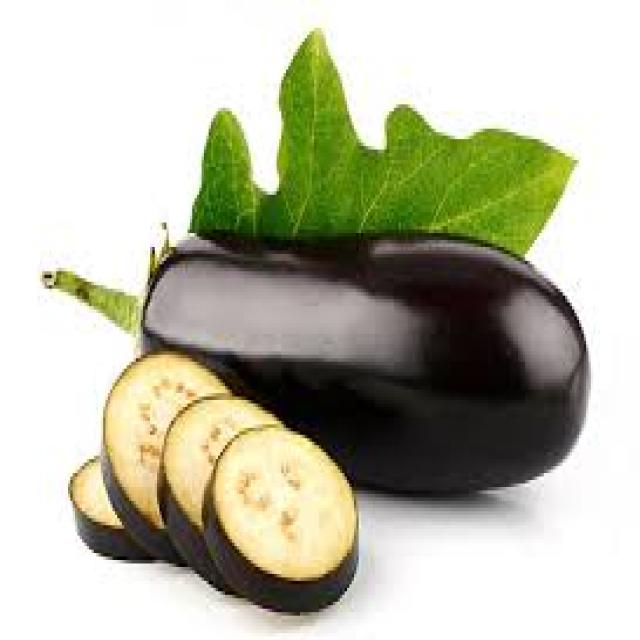eggplant: (109, 193, 625, 492), (58, 343, 376, 626)
